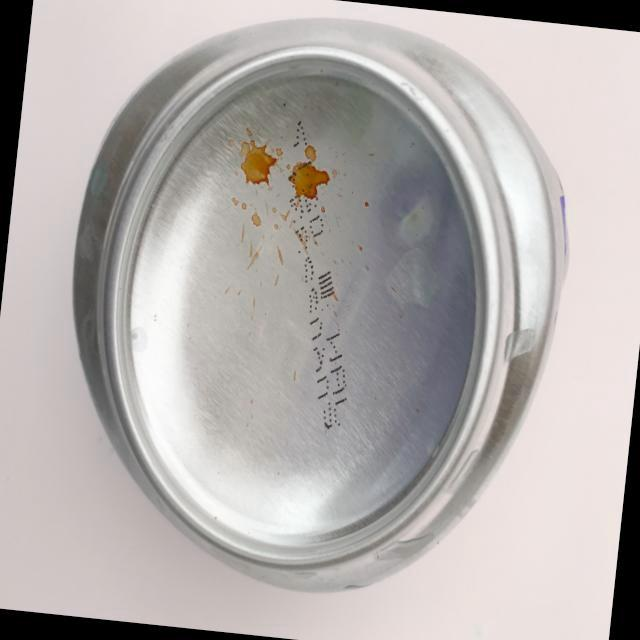metal: (16, 0, 606, 628)
